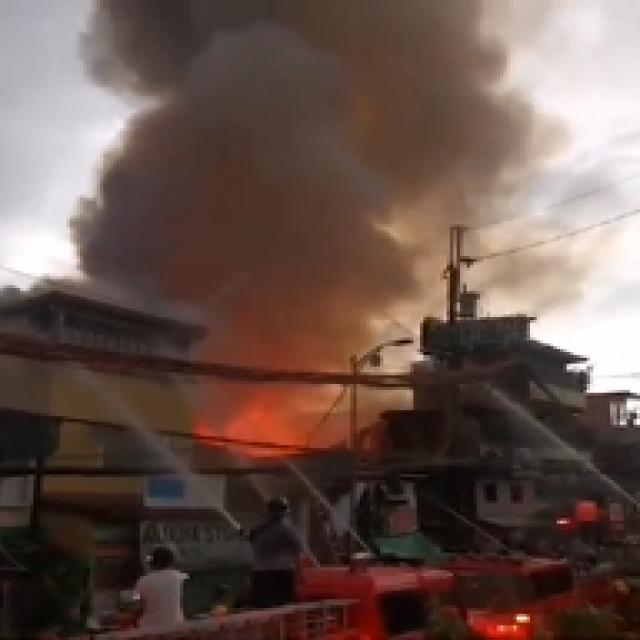Fire: (196, 384, 356, 454)
Smoke: (84, 3, 558, 217), (81, 208, 442, 317), (215, 298, 360, 367)
